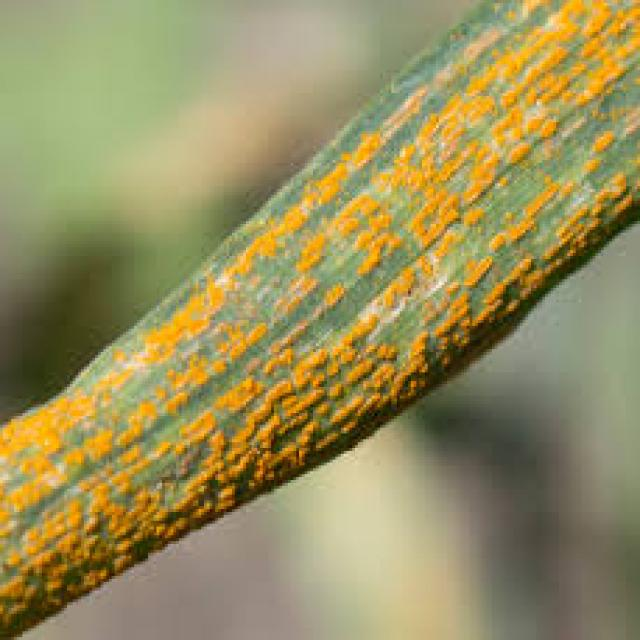leaf rust: (3, 3, 640, 617)
